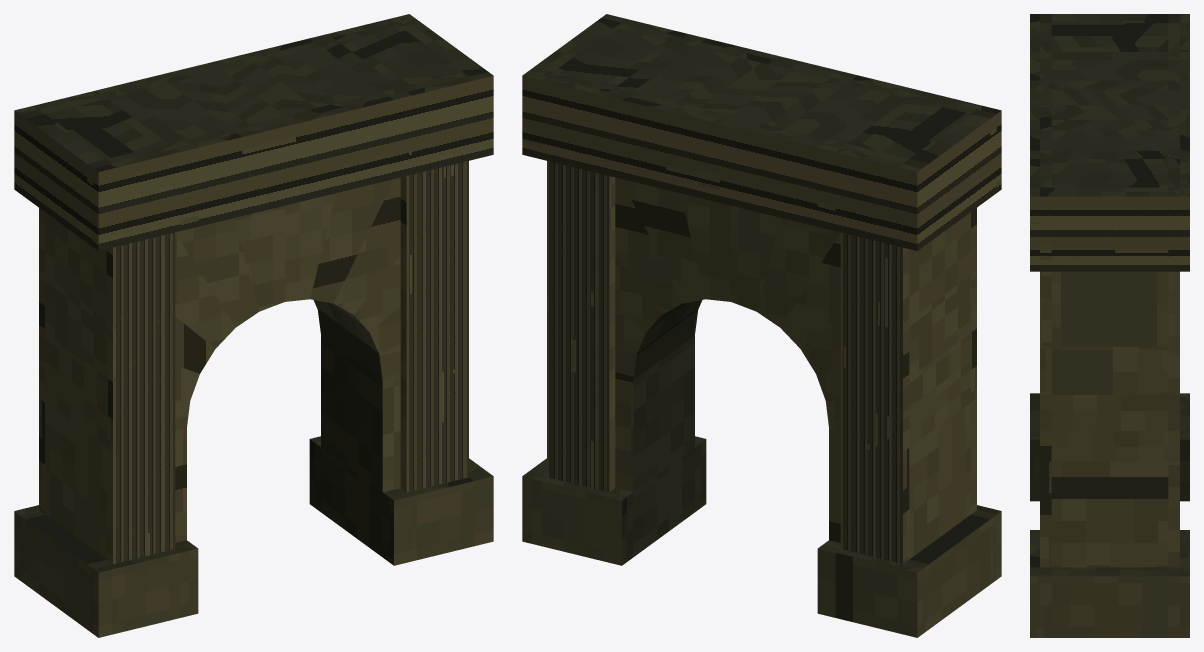
File: marble_arch.glb
3 renders of one model, left to right at view 1: azimuth 30°, elevation 25°; view 2: azimuth 150°, elevation 25°; view 3: azimuth 270°, elevation 25°, orthographic. The views are drawn at different scales.
Visible parts, largest first — view 1: MarbleArch; view 2: MarbleArch; view 3: MarbleArch.
Boxes of the visible parts, <box> form: MarbleArch: <box>14,14,493,637</box>; MarbleArch: <box>522,14,1001,637</box>; MarbleArch: <box>1030,14,1189,637</box>.
Size of what is drawn, in the model's own units: 4.44 by 5 by 1.64.
1 material, 1 textured.
